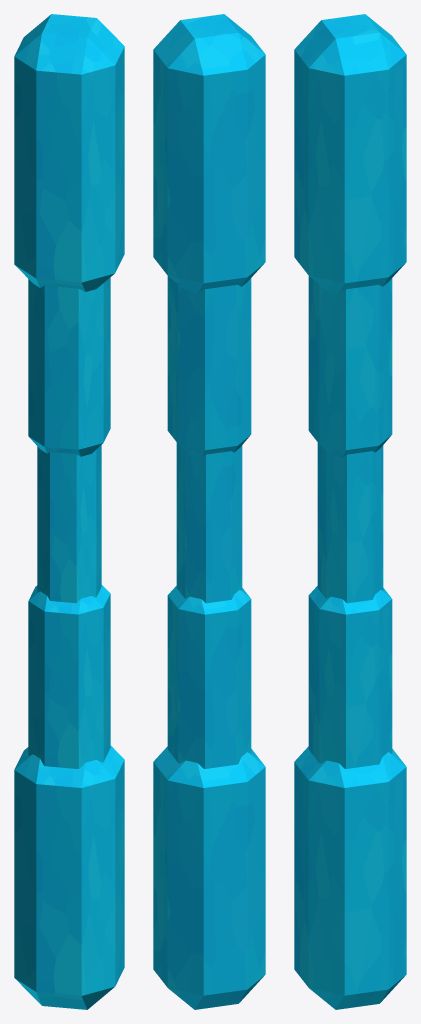
Rendered from IcePillar.fbx.
3 renders of one model, left to right at view 1: azimuth 30°, elevation 25°; view 2: azimuth 150°, elevation 25°; view 3: azimuth 330°, elevation 25°, orthographic.
Visible parts, largest first — view 1: Smt_05, Smt_01, Smt_02, Smt_04, Smt_03; view 2: Smt_05, Smt_01, Smt_02, Smt_04, Smt_03; view 3: Smt_05, Smt_01, Smt_02, Smt_04, Smt_03.
Part boxes in pixels (<box>): Smt_05: <box>14,14,124,291</box>; Smt_01: <box>14,745,124,1009</box>; Smt_02: <box>28,585,110,768</box>; Smt_04: <box>28,277,110,456</box>; Smt_03: <box>37,445,101,603</box>; Smt_05: <box>153,14,265,292</box>; Smt_01: <box>153,746,265,1009</box>; Smt_02: <box>167,586,251,768</box>; Smt_04: <box>167,276,251,457</box>; Smt_03: <box>176,442,242,603</box>; Smt_05: <box>294,14,406,292</box>; Smt_01: <box>294,746,406,1009</box>; Smt_02: <box>308,586,392,768</box>; Smt_04: <box>308,276,392,457</box>; Smt_03: <box>317,442,383,603</box>.
Size of the model in its own units: 1.48 by 14.69 by 1.48.
